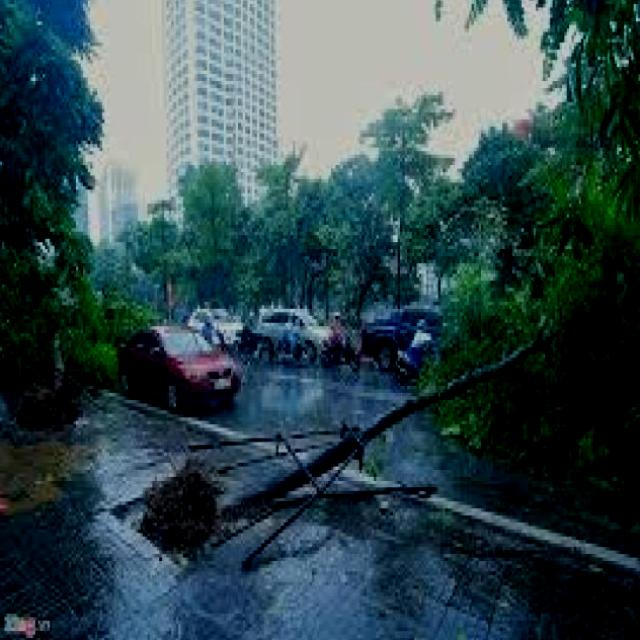fallen_object: (145, 276, 640, 557), (10, 241, 114, 468)
